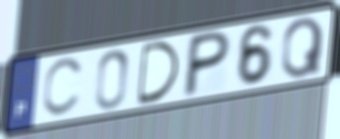0: (93, 47, 131, 112)
6: (233, 22, 279, 90)
C: (40, 55, 87, 120)
D: (135, 39, 183, 108)
P: (179, 28, 234, 101)
Q: (279, 14, 326, 81)
